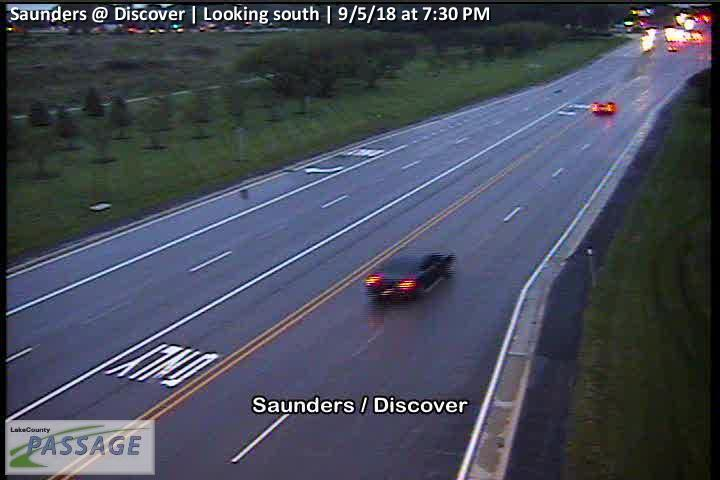Sedan: (365, 249, 455, 294), (591, 102, 616, 115)
